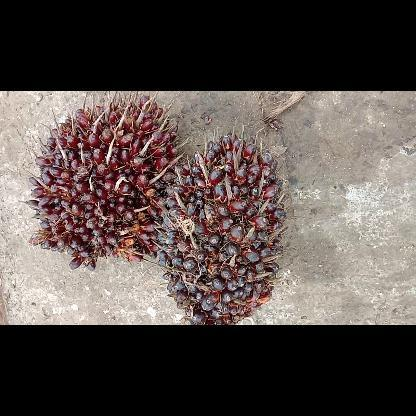Kurang masak: (165, 130, 285, 324)
TBS masak: (25, 92, 175, 270)
